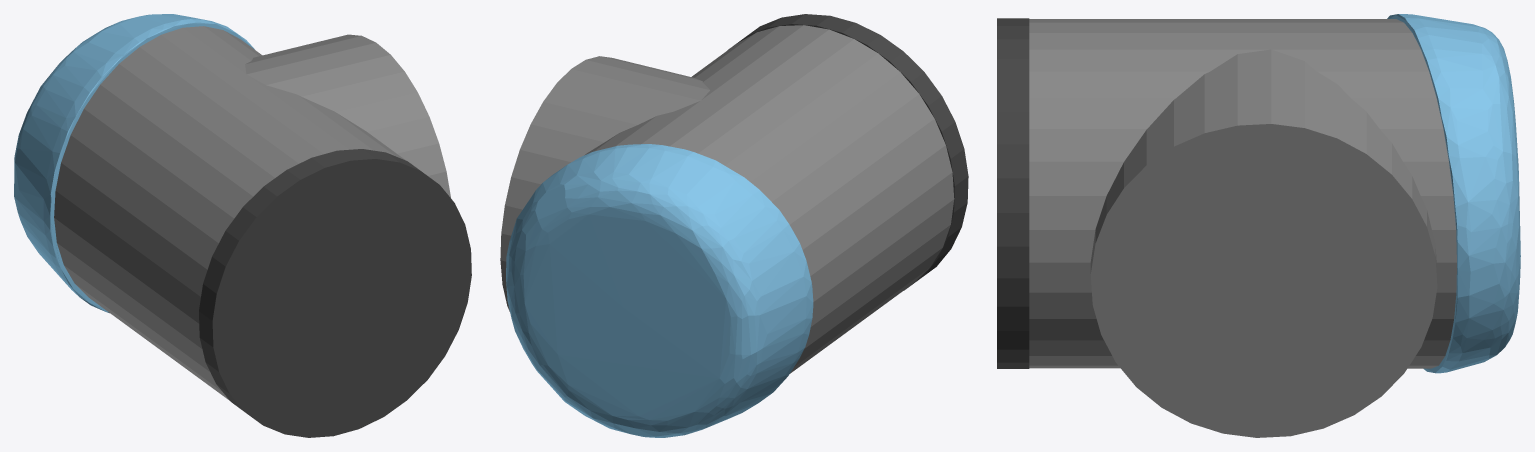
3 renders of one model, left to right at view 1: azimuth 30°, elevation 25°; view 2: azimuth 150°, elevation 25°; view 3: azimuth 270°, elevation 25°, orthographic. The views are drawn at different scales.
Visible parts, largest first — view 1: Node_0000014D8EC05A10 (×4); view 2: Node_0000014D8EC05A10 (×4); view 3: Node_0000014D8EC05A10 (×4).
Part boxes in pixels (x1,y1,x2,y2): Node_0000014D8EC05A10 (×4): (14, 14, 471, 437); Node_0000014D8EC05A10 (×4): (500, 14, 968, 437); Node_0000014D8EC05A10 (×4): (997, 14, 1520, 437).
Size of the model in its own units: 0.0695 by 0.065 by 0.0946.
